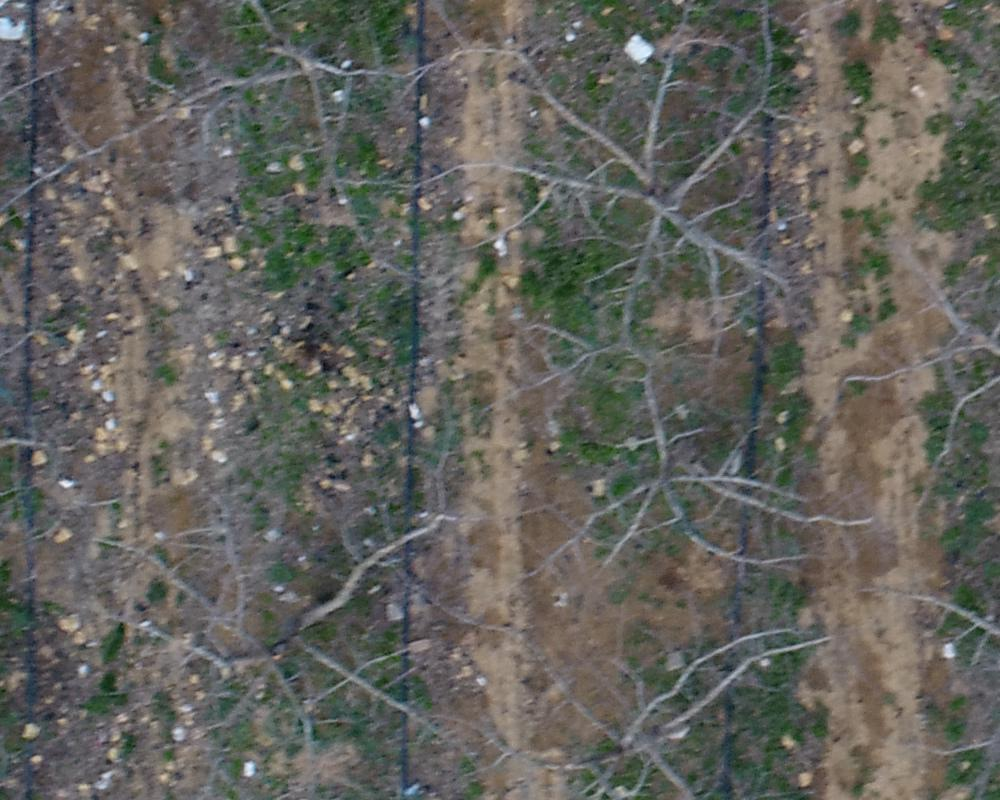apple: (410, 10, 819, 358), (94, 414, 463, 790), (57, 10, 497, 310), (485, 317, 858, 619), (447, 607, 863, 790), (843, 166, 990, 549)
